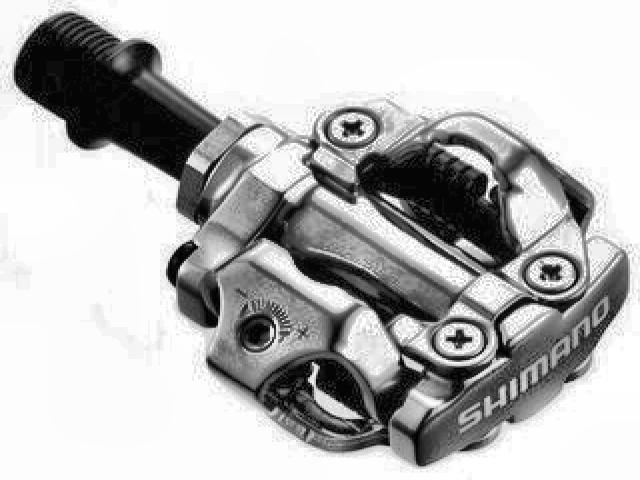pedal: (12, 9, 632, 469)
